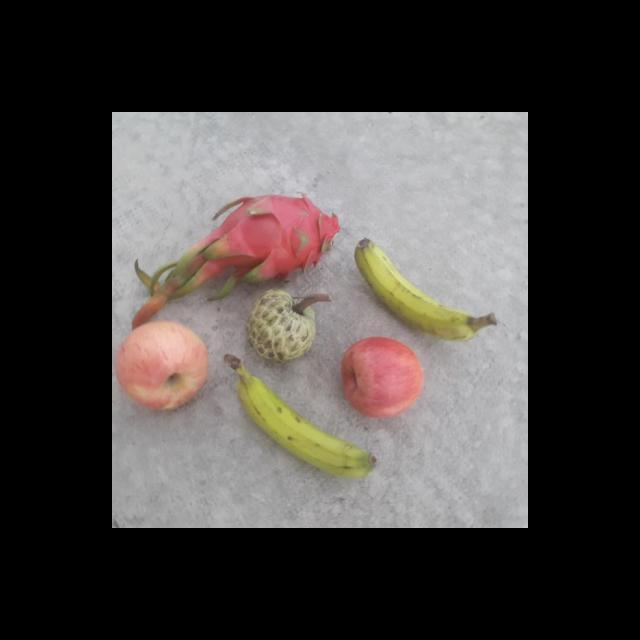Sakya fruit: (242, 287, 326, 365)
apple: (114, 320, 213, 412), (337, 337, 425, 421)
banana: (222, 354, 388, 479), (354, 236, 500, 342)
pitaya: (199, 192, 346, 290)
